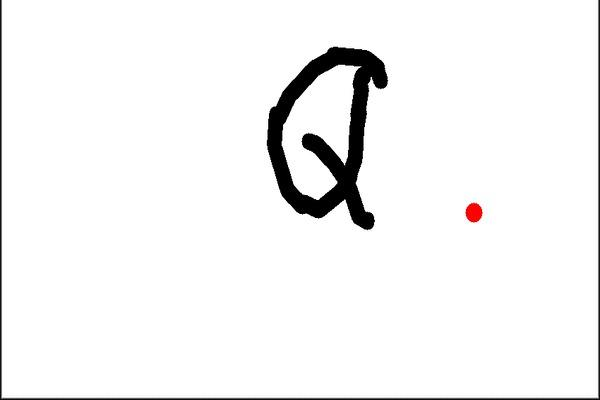Q: (253, 36, 398, 242)
